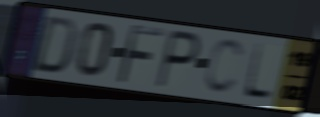0: (74, 20, 116, 80)
C: (202, 37, 246, 97)
D: (28, 14, 81, 76)
F: (114, 22, 166, 87)
L: (241, 40, 274, 103)
P: (153, 27, 203, 92)
